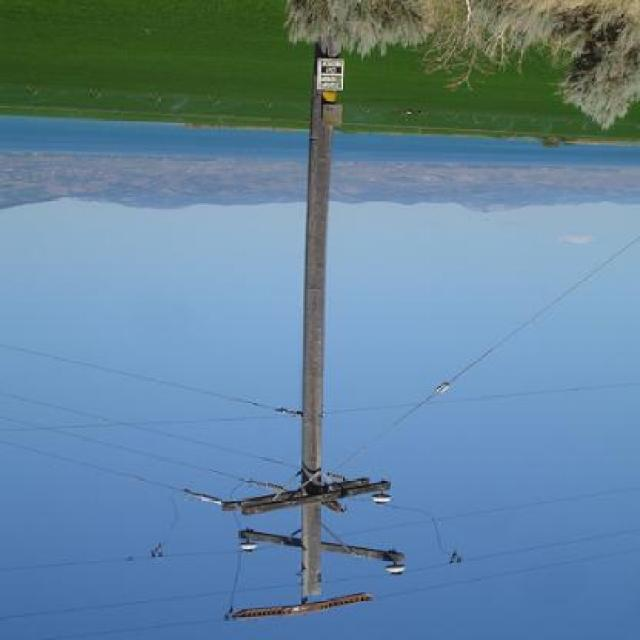pole: (214, 37, 437, 632)
